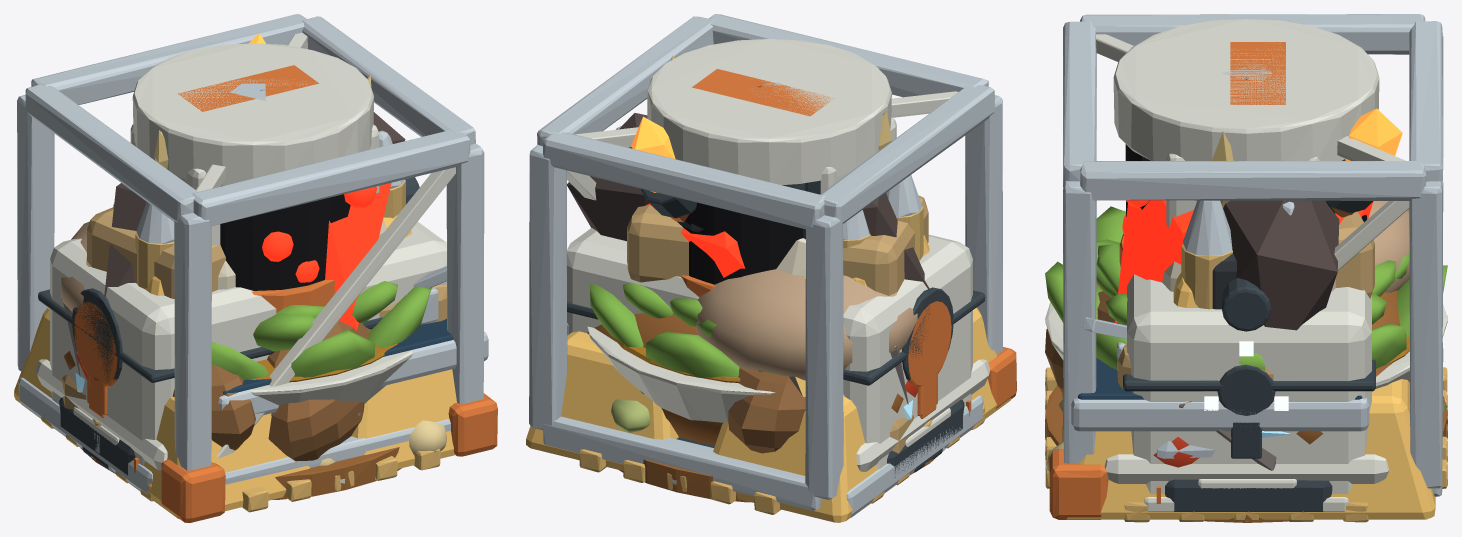
The model's file is items.glb.
The picture shows the model from 3 angles, left to right: view 1: azimuth 30°, elevation 25°; view 2: azimuth 150°, elevation 25°; view 3: azimuth 270°, elevation 25°; orthographic projection. The views are drawn at different scales.
Parts seen in each view (by area): view 1: Item_frame_part01, Item_goo_part02, Item_medkit_part01, Item_goldbar_part00, Item_goo_part01, Item_greens_part01, Item_frame_part02, Item_frame_part00, Item_crop_part01, Item_silicon_part01, Item_protein_part01, Item_heart_part01 (+21 smaller); view 2: Item_frame_part01, Item_goo_part02, Item_medkit_part01, Item_goldbar_part00, Item_mushroom_part02, Item_protein_part01, Item_greens_part01, Item_broth_part01, Item_goo_part01, Item_heart_part00, Item_crop_part01, Item_core_part05 (+21 smaller); view 3: Item_frame_part01, Item_goo_part02, Item_medkit_part01, Item_heart_part00, Item_goldbar_part00, Item_silicon_part01, Item_greens_part01, Item_meal_part02, Item_heart_part01, Item_rounds_part01, Item_core_part05, Item_frame_part02 (+25 smaller).
Boxes of the visible parts, x1,y1,x2,y2 form: Item_frame_part01: (17,14,484,484); Item_goo_part02: (132,43,373,185); Item_medkit_part01: (50,221,446,465); Item_goldbar_part00: (14,215,456,518); Item_goo_part01: (220,186,350,290); Item_greens_part01: (211,286,432,379); Item_frame_part02: (196,32,455,458); Item_frame_part00: (161,393,497,522); Item_crop_part01: (172,321,371,461); Item_silicon_part01: (18,331,488,494); Item_protein_part01: (62,207,446,409); Item_heart_part01: (325,182,391,330); Item_frame_part01: (529,14,1002,510); Item_goo_part02: (647,39,891,185); Item_medkit_part01: (567,228,972,469); Item_goldbar_part00: (526,235,1011,522); Item_mushroom_part02: (696,269,917,380); Item_protein_part01: (627,195,928,453); Item_greens_part01: (589,284,773,378); Item_broth_part01: (587,326,775,422); Item_goo_part01: (679,202,803,284); Item_heart_part00: (567,113,929,289); Item_crop_part01: (728,367,805,453); Item_core_part05: (692,69,834,116); Item_frame_part01: (1063,14,1443,496); Item_goo_part02: (1113,19,1379,160); Item_medkit_part01: (1127,274,1371,493); Item_heart_part00: (1223,200,1339,330); Item_goldbar_part00: (1062,272,1435,519); Item_silicon_part01: (1071,397,1369,431); Item_greens_part01: (1045,206,1447,370); Item_meal_part02: (1104,454,1389,483); Item_heart_part01: (1114,200,1372,322); Item_rounds_part01: (1165,479,1332,511); Item_core_part05: (1230,42,1285,104); Item_frame_part02: (1096,34,1409,270).
Bounding box in the file's own units: 1 × 1 × 1.
